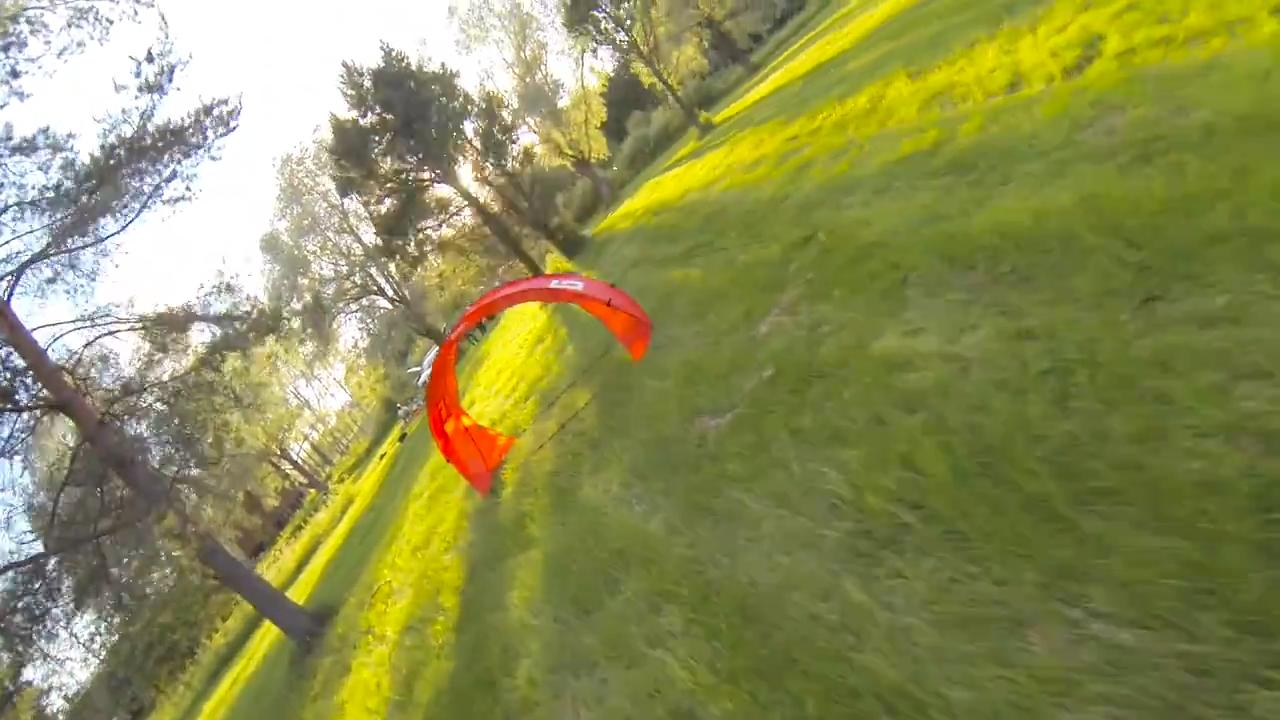gate: (421, 271, 660, 498)
